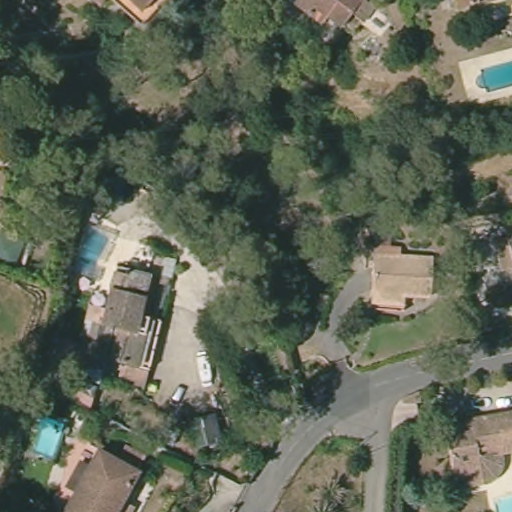pool: (73, 227, 112, 280), (30, 414, 70, 462), (474, 58, 512, 96), (489, 482, 512, 512)
